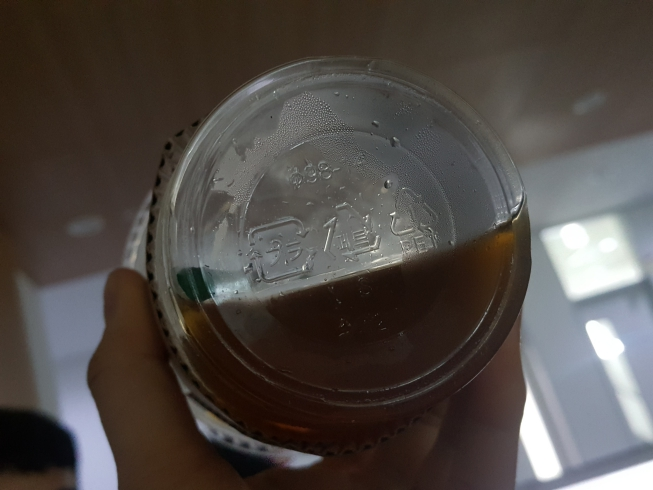recycle: (386, 183, 448, 258)
